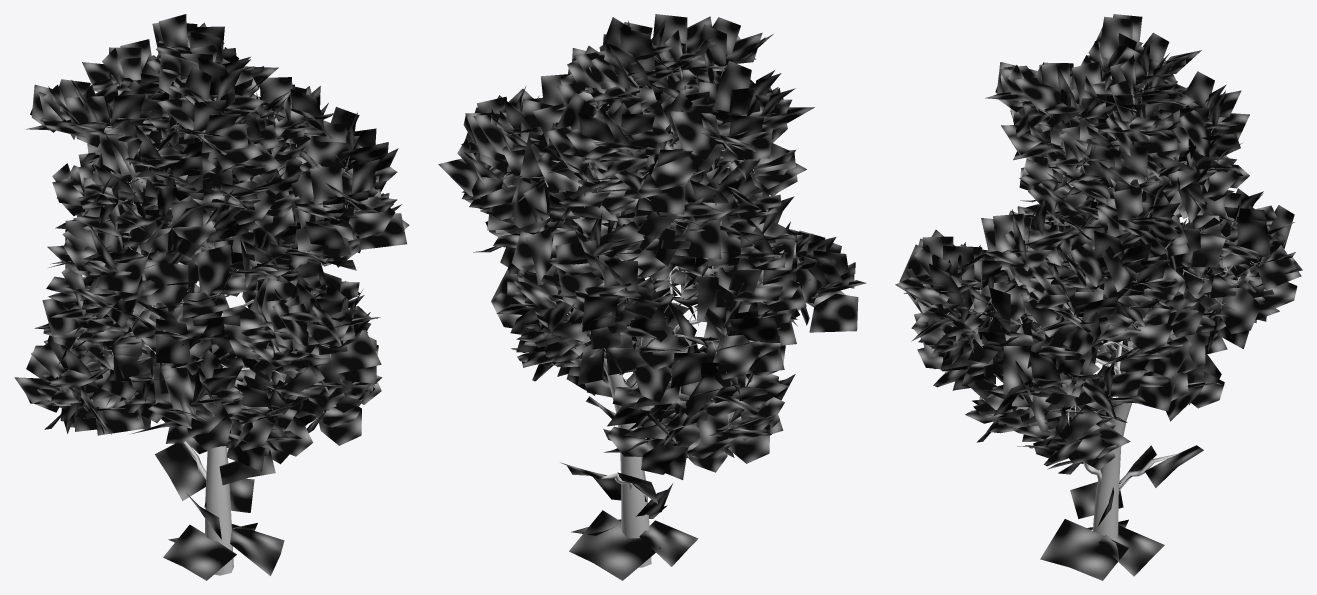
The model's file is SM_Tree03.fbx.
3 views of the same model, side by side, from view 1: azimuth 30°, elevation 25°; view 2: azimuth 150°, elevation 25°; view 3: azimuth 270°, elevation 25° (orthographic). The views are drawn at different scales.
Visible parts, largest first — view 1: SM_Tree03; view 2: SM_Tree03; view 3: SM_Tree03.
Part boxes in pixels (x1,y1,x2,y2): SM_Tree03: (14,14,409,580); SM_Tree03: (438,14,866,580); SM_Tree03: (895,14,1302,580).
Size of the model in its own units: 645 by 683 by 942.
